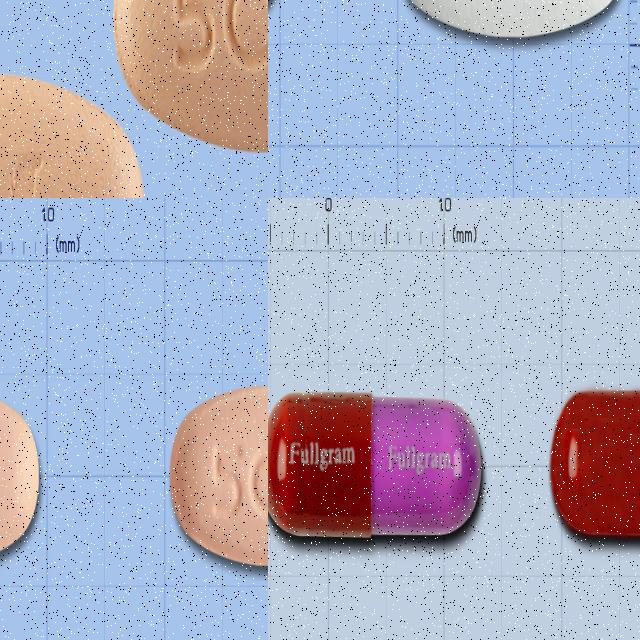Fullgram Cap: (268, 390, 482, 539), (548, 388, 640, 538)
Levo F: (114, 0, 268, 151), (0, 69, 144, 198)
Refloxin Tab- -For Export-: (170, 384, 268, 567)
